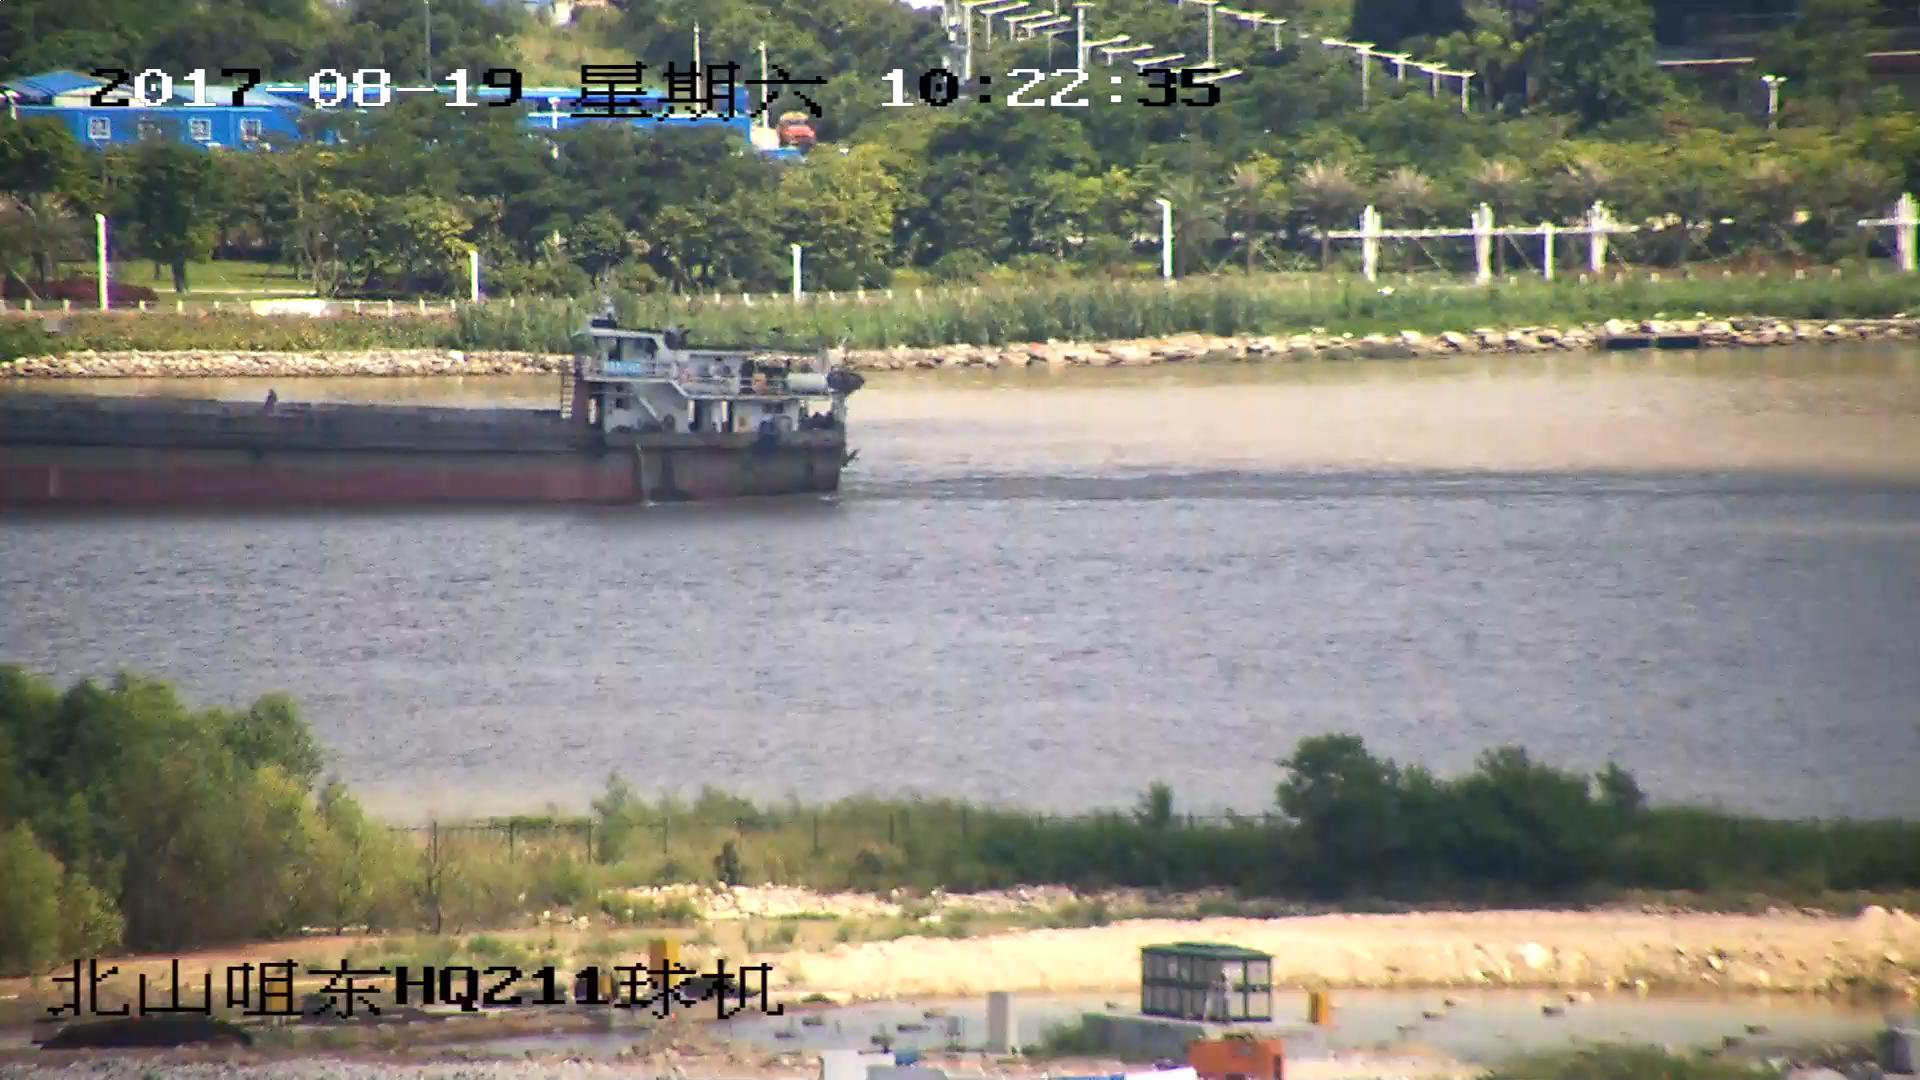Ship: (3, 301, 852, 504)
